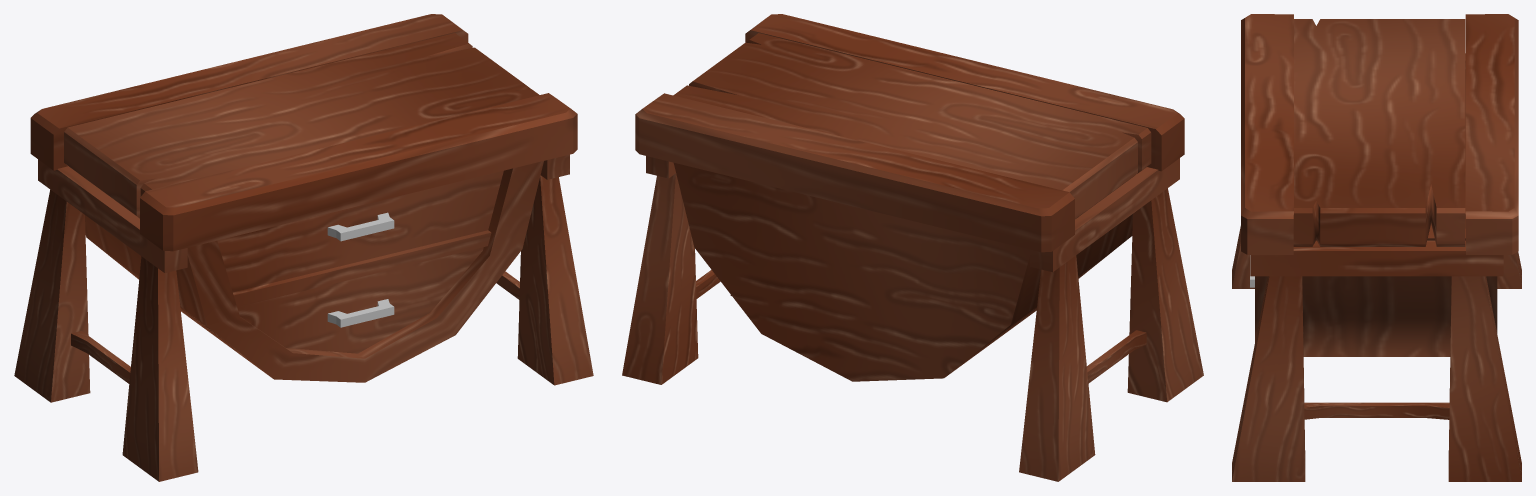
File: NightstandVar2.fbx
3 views of the same model, side by side, from view 1: azimuth 30°, elevation 25°; view 2: azimuth 150°, elevation 25°; view 3: azimuth 270°, elevation 25° (orthographic).
Visible parts, largest first — view 1: NightstandVar2; view 2: NightstandVar2; view 3: NightstandVar2.
Boxes of the visible parts, x1=… form: NightstandVar2: x1=14, y1=14, x2=593, y2=481; NightstandVar2: x1=622, y1=14, x2=1203, y2=481; NightstandVar2: x1=1232, y1=14, x2=1521, y2=481.
Size of the model in its own units: 169 by 98.24 by 97.82.
